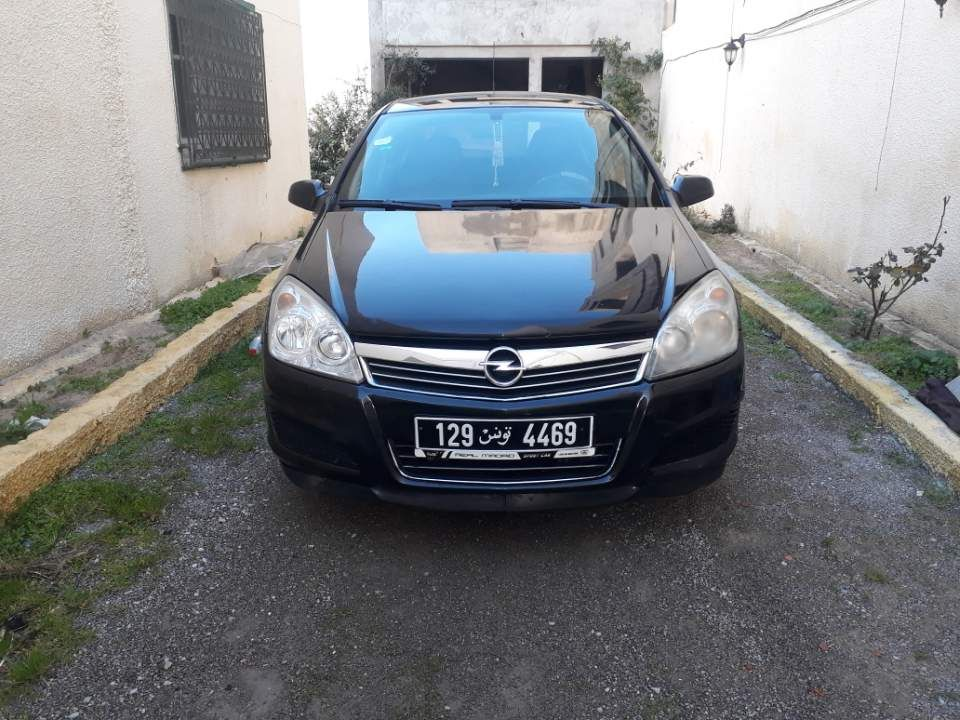LP: (411, 413, 597, 452)
